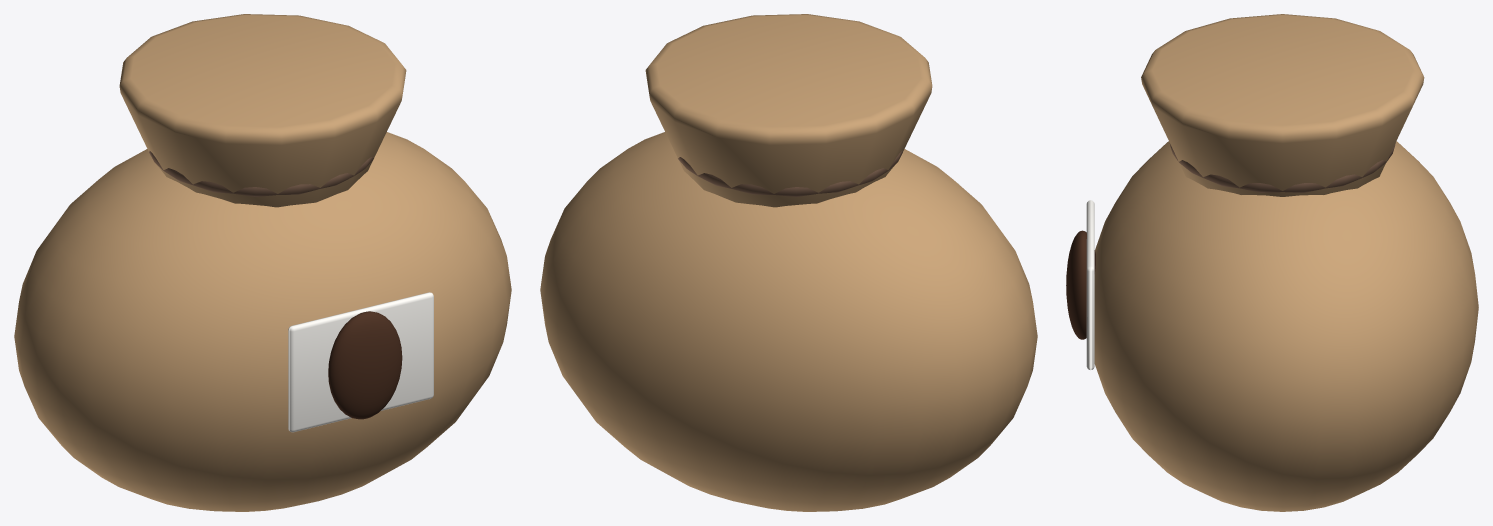
The model's file is sac.glb.
3 views of the same model, side by side, from view 1: azimuth 30°, elevation 25°; view 2: azimuth 150°, elevation 25°; view 3: azimuth 270°, elevation 25° (orthographic). The views are drawn at different scales.
Parts seen in each view (by area): view 1: panse, col, etiquette, grain, lien; view 2: panse, col, lien; view 3: panse, col, grain, etiquette, lien.
Boxes of the visible parts, x1,y1,x2,y2 form: panse: (14, 132, 511, 511); col: (119, 14, 406, 207); etiquette: (288, 292, 433, 432); grain: (328, 311, 402, 419); lien: (149, 151, 373, 196); panse: (540, 132, 1037, 511); col: (645, 14, 932, 207); lien: (678, 151, 902, 196); panse: (1094, 141, 1478, 511); col: (1141, 14, 1424, 196); grain: (1066, 230, 1095, 339); etiquette: (1086, 200, 1094, 370); lien: (1169, 143, 1395, 192).
Size of the model in its own units: 0.63 by 0.554 by 0.505.
